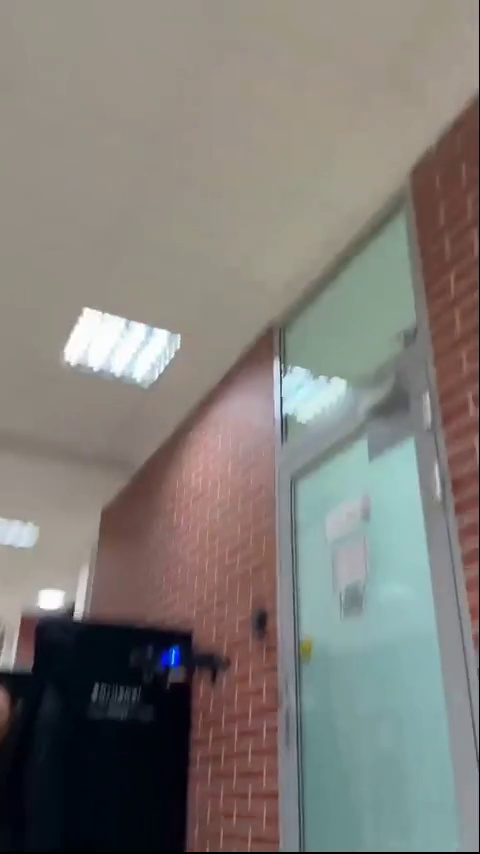drone: (123, 643, 230, 688)
